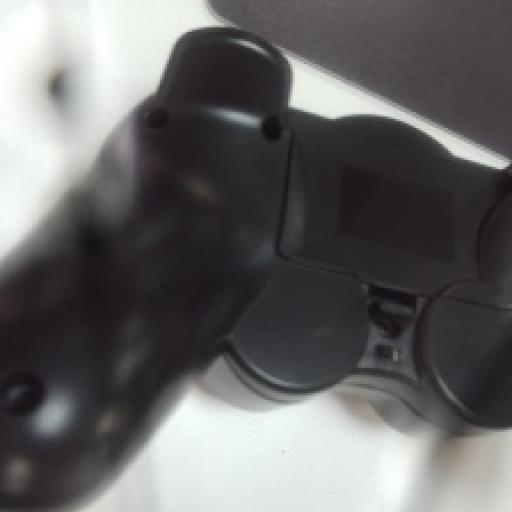game pad: (0, 27, 510, 510)
